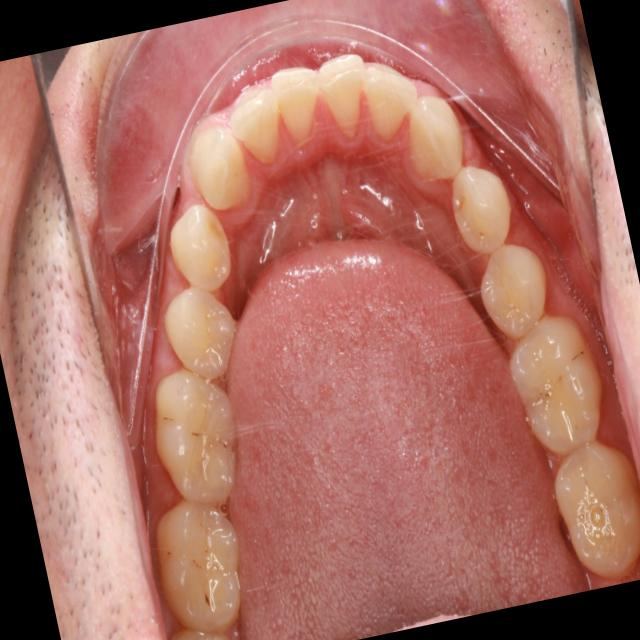tooth: (490, 306, 617, 468), (133, 353, 257, 518), (143, 483, 265, 640), (530, 426, 640, 595), (465, 232, 566, 350), (428, 137, 524, 261), (154, 272, 250, 387), (387, 78, 478, 197), (156, 190, 247, 308), (251, 34, 333, 157), (217, 62, 299, 182), (353, 41, 433, 159), (179, 111, 261, 222), (308, 41, 382, 152), (158, 605, 250, 640)
